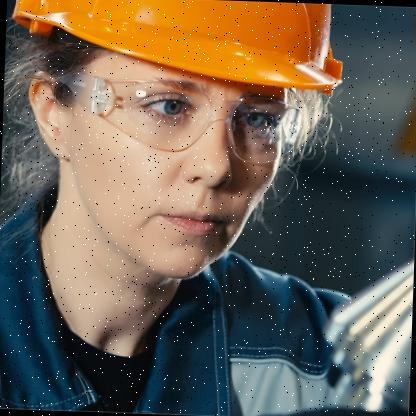oculos: (57, 71, 305, 167)
